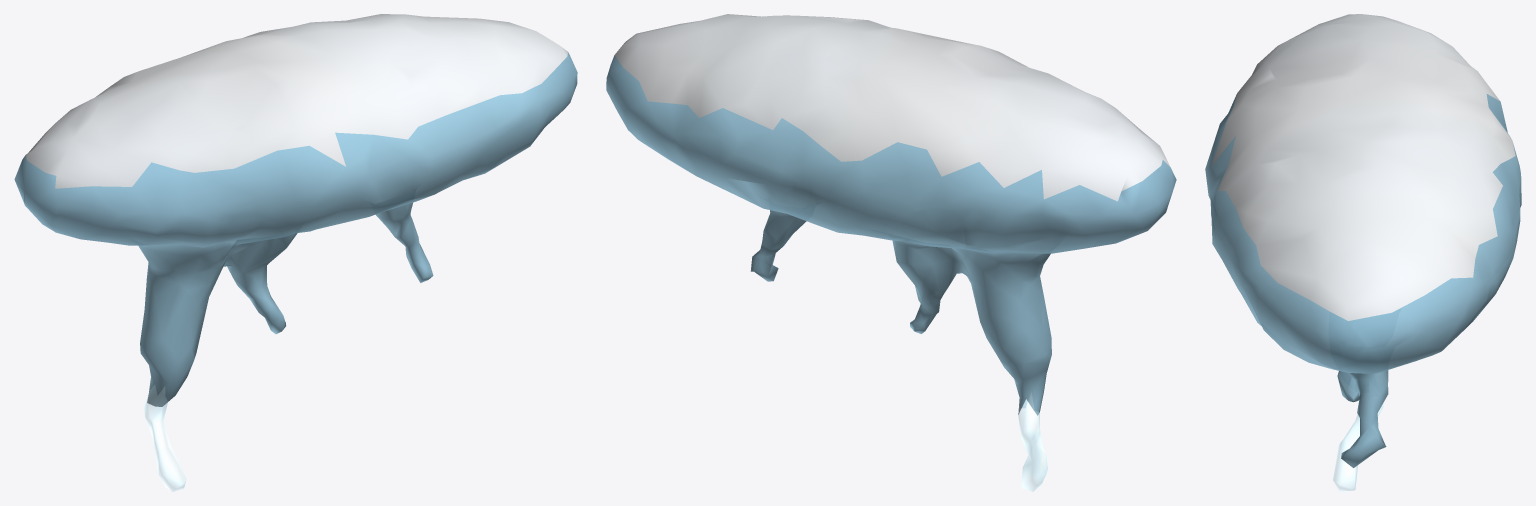
File: frost_icicle_cluster_c_lod1.glb
The picture shows the model from 3 angles, left to right: view 1: azimuth 30°, elevation 25°; view 2: azimuth 150°, elevation 25°; view 3: azimuth 270°, elevation 25°; orthographic projection. The views are drawn at different scales.
Parts seen in each view (by area): view 1: frost_icicle_cluster_c.001; view 2: frost_icicle_cluster_c.001; view 3: frost_icicle_cluster_c.001.
Boxes of the visible parts, x1=… form: frost_icicle_cluster_c.001: x1=14, y1=14, x2=577, y2=491; frost_icicle_cluster_c.001: x1=606, y1=14, x2=1176, y2=491; frost_icicle_cluster_c.001: x1=1205, y1=14, x2=1521, y2=491.
Bounding box in the file's own units: 6.99 × 5 × 3.09.
